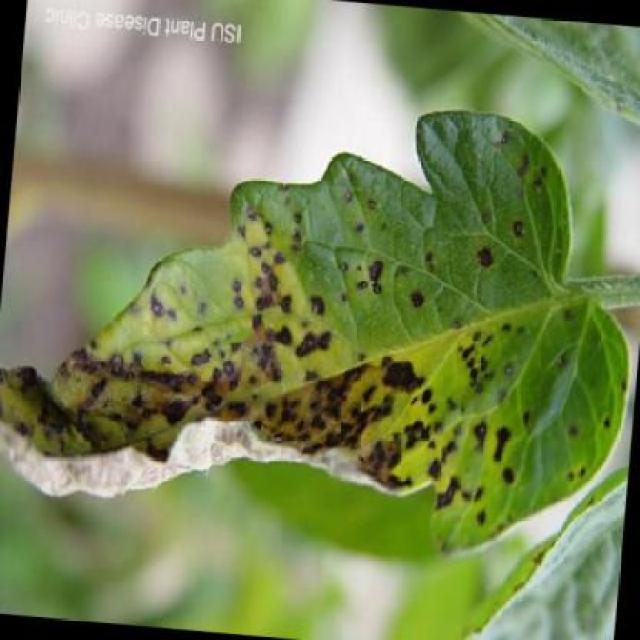Septoria leaf spot: (1, 61, 639, 598)
